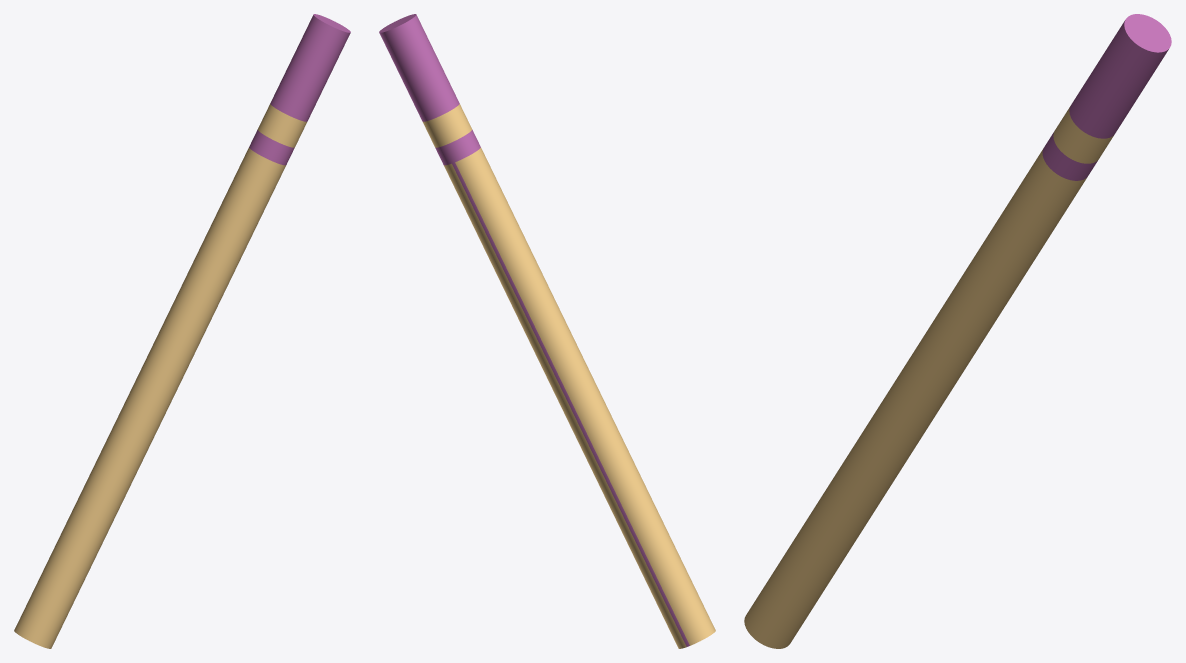
The model's file is Pen_1.glb.
The picture shows the model from 3 angles, left to right: view 1: azimuth 30°, elevation 25°; view 2: azimuth 150°, elevation 25°; view 3: azimuth 330°, elevation 25°; orthographic projection. The views are drawn at different scales.
Visible parts, largest first — view 1: Pen_1; view 2: Pen_1; view 3: Pen_1.
Part boxes in pixels (box(x1,y1,x2,y2)): Pen_1: box(14, 14, 350, 648); Pen_1: box(379, 14, 715, 648); Pen_1: box(744, 14, 1171, 648).
Bounding box in the file's own units: 1.64 × 2.67 × 0.1787.
